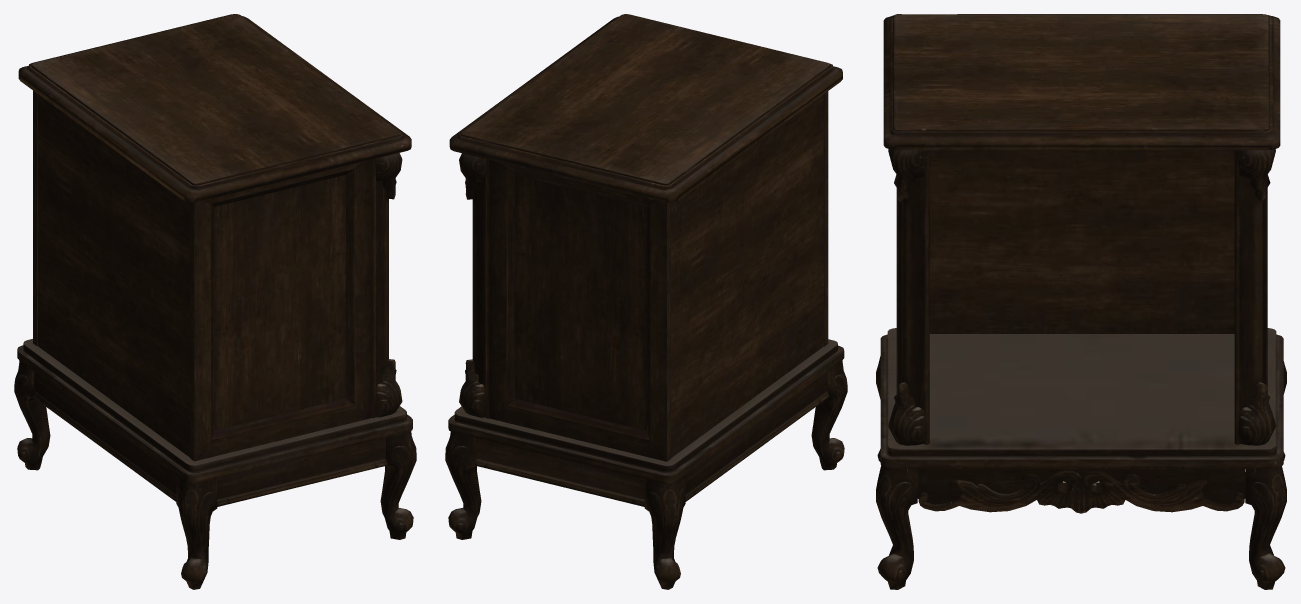
The model's file is nightstand.glb.
3 views of the same model, side by side, from view 1: azimuth 30°, elevation 25°; view 2: azimuth 150°, elevation 25°; view 3: azimuth 270°, elevation 25° (orthographic). The views are drawn at different scales.
Visible parts, largest first — view 1: ClassicNightstand_01; view 2: ClassicNightstand_01; view 3: ClassicNightstand_01.
Boxes of the visible parts, x1,y1,x2,y2 form: ClassicNightstand_01: (14,14,416,589); ClassicNightstand_01: (445,14,847,589); ClassicNightstand_01: (876,14,1286,589).
Bounding box in the file's own units: 0.4242 × 0.7 × 0.5678.
1 material, 1 textured.
